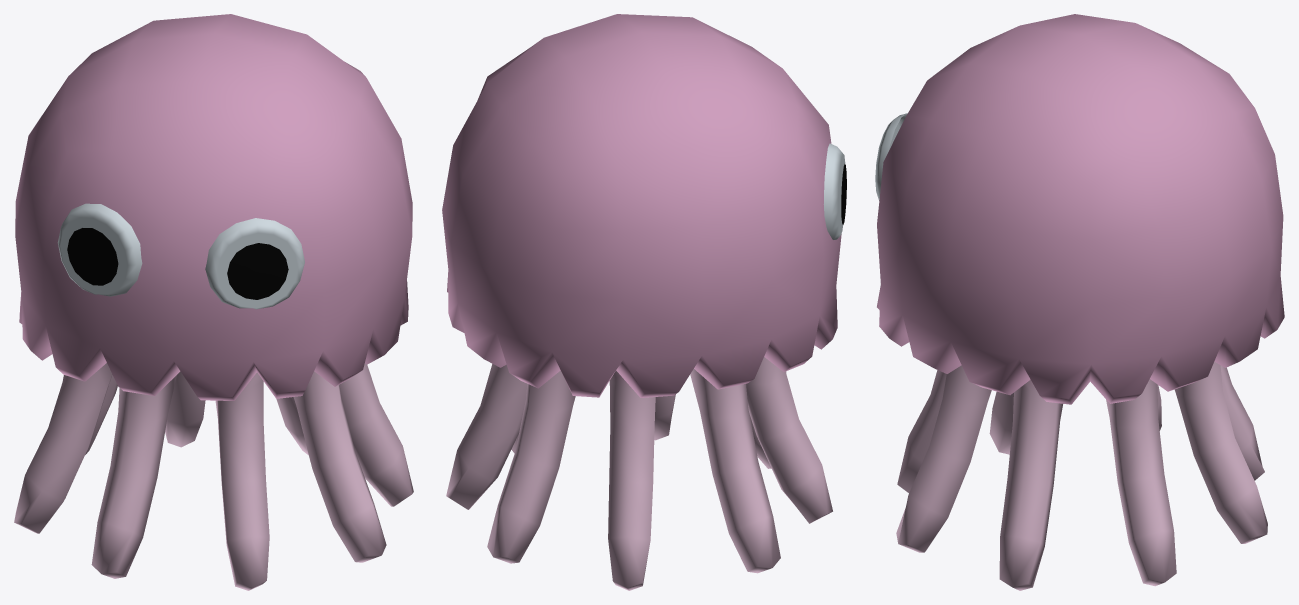
Rendered from Jellyfish.glb.
3 views of the same model, side by side, from view 1: azimuth 30°, elevation 25°; view 2: azimuth 150°, elevation 25°; view 3: azimuth 270°, elevation 25° (orthographic).
Visible parts, largest first — view 1: 80; view 2: 80; view 3: 80.
Part boxes in pixels (x1,y1,x2,y2): 80: (14,14,413,590); 80: (442,14,846,590); 80: (875,14,1284,590).
Bounding box in the file's own units: 0.5441 × 0.7147 × 0.5461.
